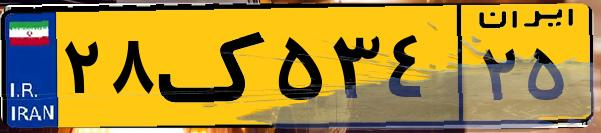2: (57, 26, 110, 100), (475, 38, 525, 113)
3: (330, 28, 385, 110)
4: (385, 28, 445, 110)
5: (270, 28, 330, 110), (525, 38, 570, 115)
8: (110, 28, 158, 98)
ک: (158, 12, 270, 120)
